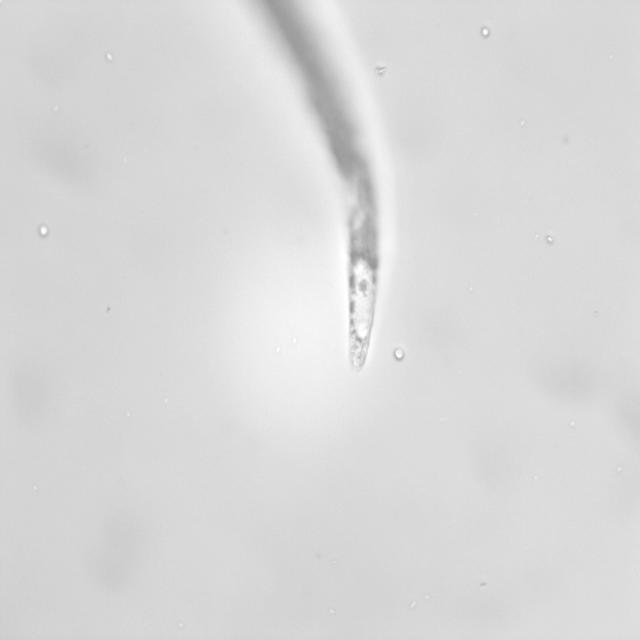Pratylenchus: (317, 198, 386, 382)
